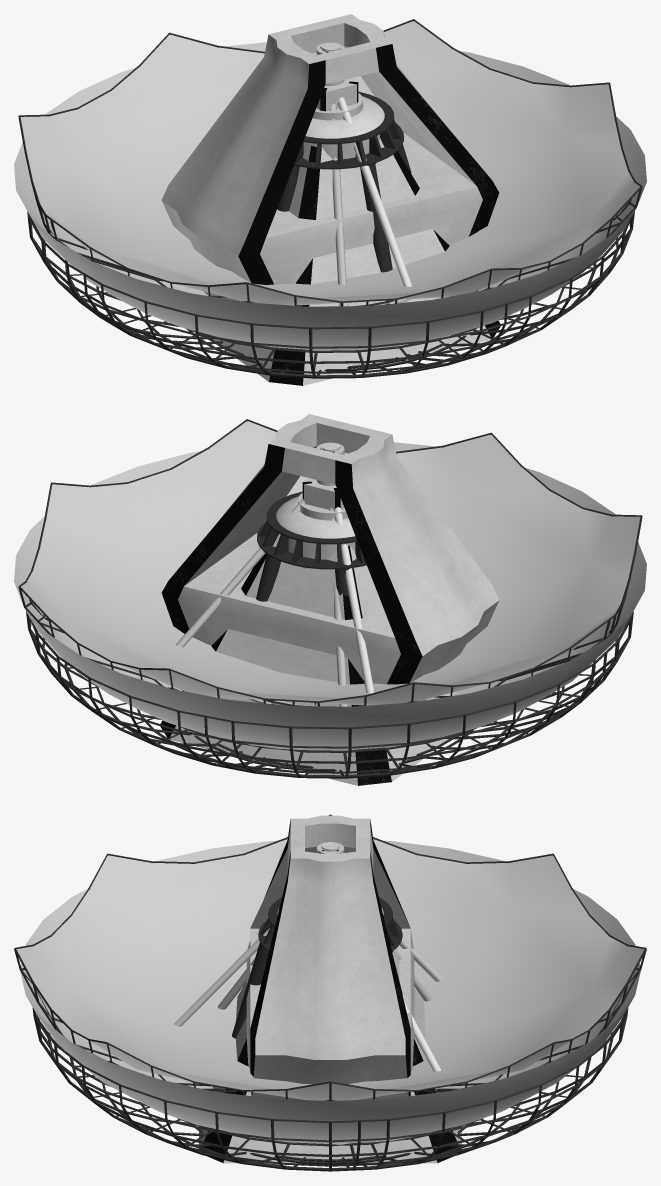
File: VSR_radio-telescope.fbx
3 renders of one model, top to bottom at view 1: azimuth 30°, elevation 25°; view 2: azimuth 150°, elevation 25°; view 3: azimuth 270°, elevation 25°, orthographic. The views are drawn at different scales.
Parts seen in each view (by area): view 1: canak.001, kule-main.003, canak, canak-iskelet, kule-main.002, kule-main.001, canak-iskelet.001, alıcı.001, destek-direkleri.004, alıcı, destek-parcaları; view 2: canak.001, kule-main.003, canak, canak-iskelet, kule-main.002, kule-main.001, canak-iskelet.001, alıcı.001, destek-parcaları, destek-direkleri.002, alıcı; view 3: canak.001, kule-main.003, canak, canak-iskelet, kule-main.002, canak-iskelet.001, alıcı.001, kule-main.001, destek-direkleri.004, alıcı.
Part boxes in pixels (x1,y1,x2,y2): canak.001: [20, 21, 639, 305]; kule-main.003: [161, 14, 499, 301]; canak: [14, 42, 646, 350]; canak-iskelet: [27, 211, 634, 378]; kule-main.002: [203, 45, 500, 385]; kule-main.001: [294, 42, 411, 305]; canak-iskelet.001: [18, 19, 642, 306]; alıcı.001: [338, 97, 411, 286]; destek-direkleri.004: [360, 162, 392, 272]; alıcı: [329, 103, 347, 306]; destek-parcaları: [295, 120, 401, 166]; canak.001: [21, 421, 640, 705]; kule-main.003: [161, 414, 499, 701]; canak: [14, 442, 646, 750]; canak-iskelet: [26, 611, 633, 778]; kule-main.002: [160, 445, 457, 785]; kule-main.001: [249, 442, 366, 705]; canak-iskelet.001: [18, 419, 642, 706]; alıcı.001: [176, 499, 374, 693]; destek-parcaları: [259, 520, 365, 566]; destek-direkleri.002: [256, 553, 280, 601]; alıcı: [252, 507, 347, 706]; canak.001: [16, 838, 644, 1100]; kule-main.003: [246, 815, 414, 1099]; canak: [20, 840, 640, 1143]; canak-iskelet: [32, 1007, 628, 1171]; kule-main.002: [199, 848, 461, 1163]; canak-iskelet.001: [14, 814, 646, 1101]; alıcı.001: [174, 928, 442, 1071]; kule-main.001: [258, 842, 402, 951]; destek-direkleri.004: [232, 943, 268, 1038]; alıcı: [218, 949, 431, 1009].
Size of the model in its own units: 602 by 306 by 602.
